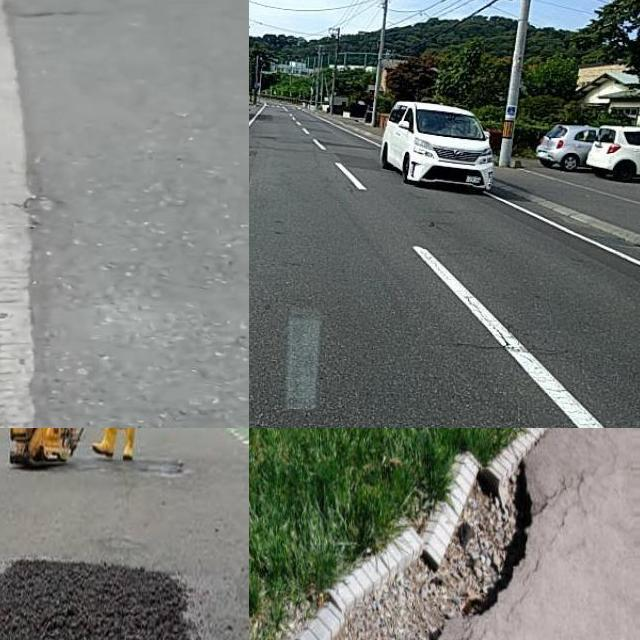Pinggir: (254, 428, 563, 640)
Sambungan: (0, 558, 188, 640)
